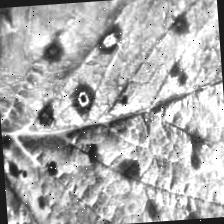Leaf Spot: (0, 0, 224, 224), (2, 135, 79, 224)
